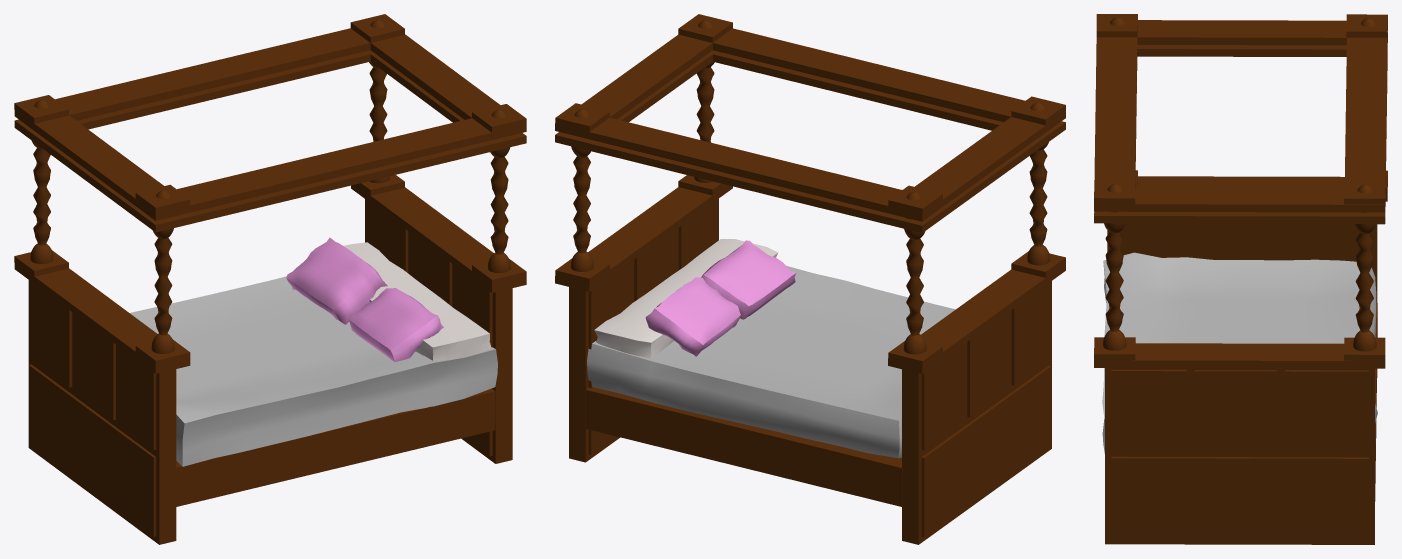
The model's file is model_Historical_Bed.fbx.
The picture shows the model from 3 angles, left to right: view 1: azimuth 30°, elevation 25°; view 2: azimuth 150°, elevation 25°; view 3: azimuth 270°, elevation 25°; orthographic projection. The views are drawn at different scales.
Parts seen in each view (by area): view 1: pasted__polySurface97.001, pasted__polySurface217, pasted__polySurface218, pasted__polySurface220, pasted__polySurface219; view 2: pasted__polySurface97.001, pasted__polySurface217, pasted__polySurface220, pasted__polySurface218, pasted__polySurface219; view 3: pasted__polySurface97.001, pasted__polySurface217.
Boxes of the visible parts, x1,y1,x2,y2 form: pasted__polySurface97.001: (14,14,526,544); pasted__polySurface217: (130,276,497,466); pasted__polySurface218: (286,237,387,324); pasted__polySurface220: (343,242,491,360); pasted__polySurface219: (349,288,443,361); pasted__polySurface97.001: (555,14,1065,544); pasted__polySurface217: (587,265,955,457); pasted__polySurface220: (594,239,778,358); pasted__polySurface218: (645,277,740,356); pasted__polySurface219: (701,240,796,319); pasted__polySurface97.001: (1094,14,1387,544); pasted__polySurface217: (1102,252,1377,453).
Size of the model in its own units: 1803 by 1629 by 1211.
